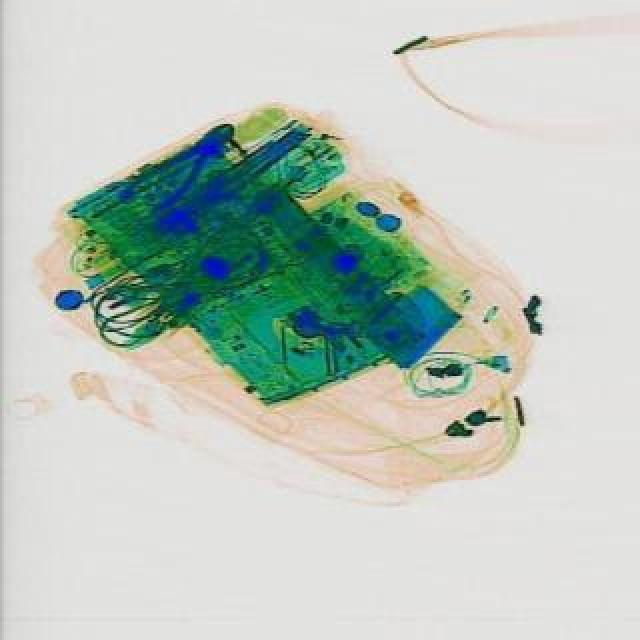wrench: (118, 112, 246, 226)
